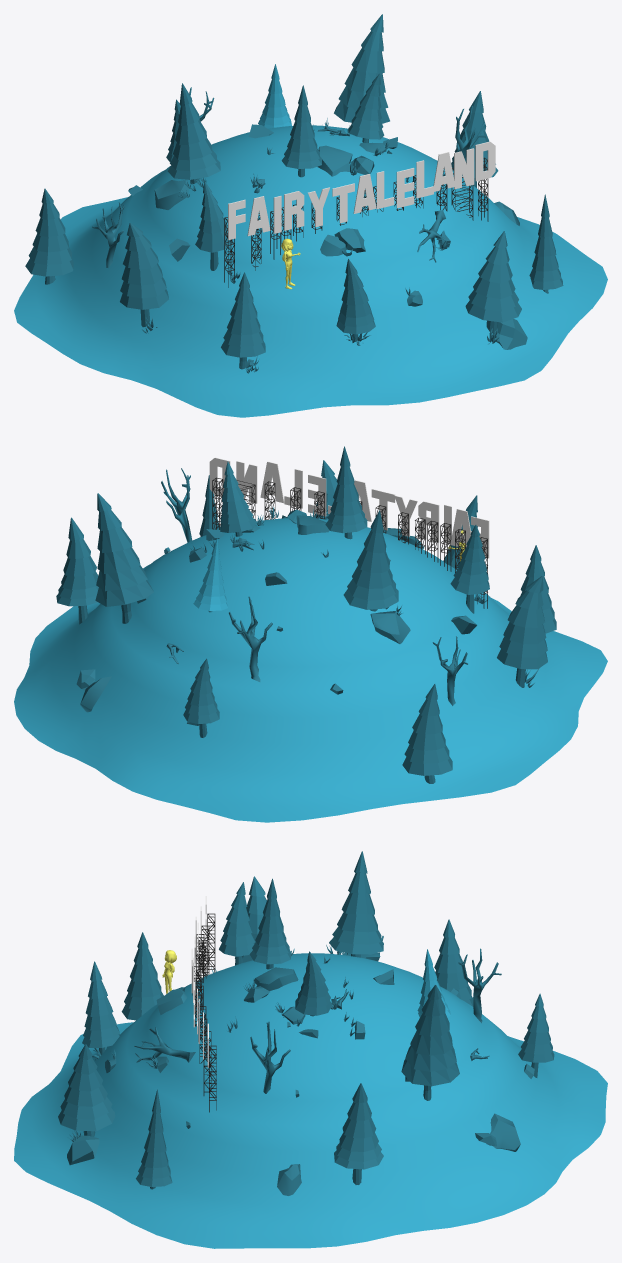
3 renders of one model, top to bottom at view 1: azimuth 30°, elevation 25°; view 2: azimuth 150°, elevation 25°; view 3: azimuth 270°, elevation 25°, orthographic. The views are drawn at different scales.
Visible parts, largest first — view 1: HillShape, Text002, PineC001, PineC004, PineB002, PineA001, PineC005, PineA002, PineB005, PineB001, PineB007, PineC002 (+7 smaller); view 2: HillShape, Text002, PineA001, PineC004, PineB002, PineC005, PineB004, PineB005, PineC002, PineC003, PineC006, PineB003 (+8 smaller); view 3: HillShape, PineA001, PineC001, PineB002, PineB004, PineA002, PineB001, PineB005, PineB007, PineC002, PineC005, PineC003 (+11 smaller).
Boxes of the visible parts, x1,y1,x2,y2 form: HillShape: [14, 125, 607, 417]; Text002: [228, 141, 495, 240]; PineC001: [465, 231, 521, 333]; PineC004: [120, 222, 168, 327]; PineB002: [167, 83, 220, 184]; PineA001: [334, 14, 389, 123]; PineC005: [25, 188, 73, 284]; PineA002: [221, 272, 265, 369]; PineB005: [281, 85, 321, 177]; PineB001: [336, 258, 375, 341]; PineB007: [529, 194, 563, 293]; PineC002: [195, 181, 232, 270]; HillShape: [14, 518, 607, 822]; Text002: [209, 457, 489, 558]; PineA001: [95, 493, 153, 623]; PineC004: [497, 575, 547, 687]; PineB002: [343, 510, 398, 611]; PineC005: [402, 684, 452, 783]; PineB004: [56, 517, 98, 624]; PineB005: [325, 446, 367, 539]; PineC002: [450, 525, 489, 613]; PineC003: [183, 658, 219, 737]; PineC006: [220, 461, 256, 536]; PineB003: [193, 538, 228, 612]; HillShape: [14, 953, 607, 1248]; PineA001: [401, 984, 459, 1100]; PineC001: [58, 1044, 115, 1136]; PineB002: [329, 851, 383, 957]; PineB004: [334, 1083, 383, 1184]; PineA002: [121, 932, 163, 1020]; PineB001: [82, 961, 119, 1054]; PineB005: [249, 878, 291, 969]; PineB007: [136, 1089, 172, 1189]; PineC002: [219, 882, 255, 965]; PineC005: [434, 919, 473, 1006]; PineC003: [518, 993, 554, 1077].
Bounding box in the file's own units: 15.18 × 6.63 × 15.25.
